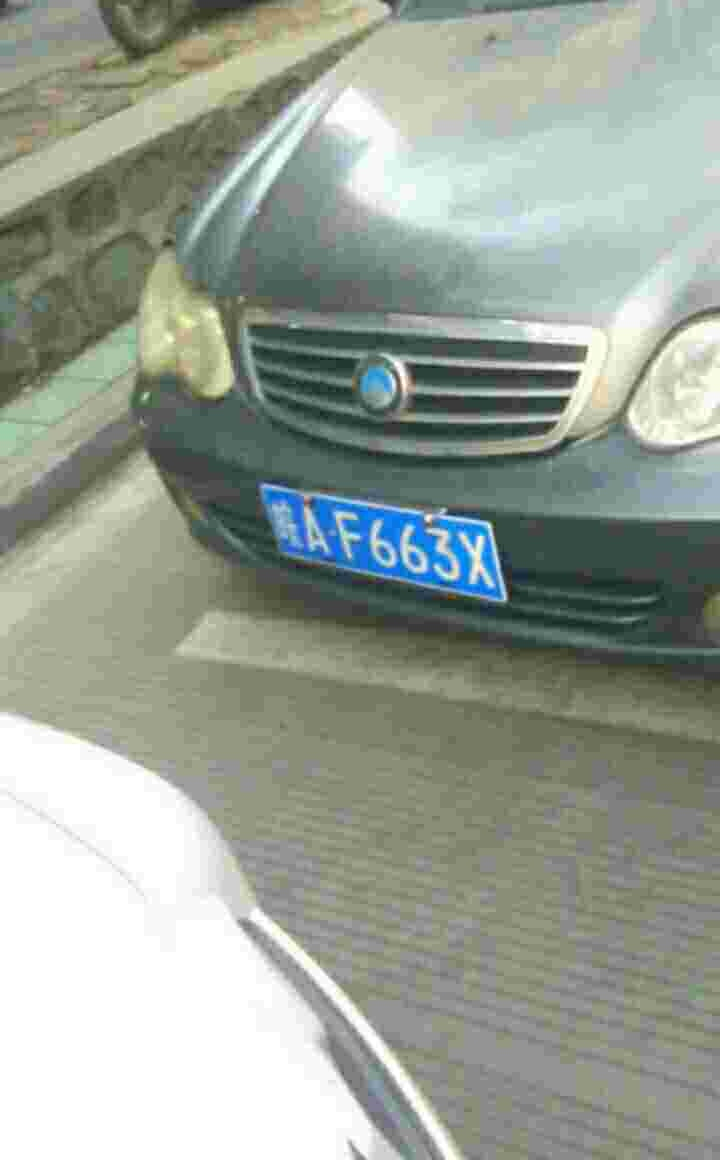license_plate: (259, 492, 521, 588)
